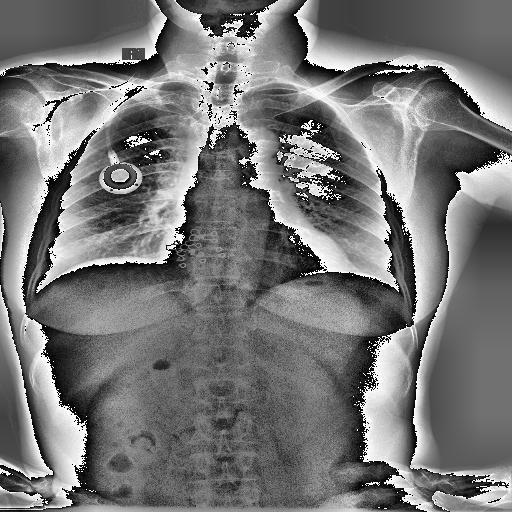0- Aortic enlargement: (233, 127, 279, 177)
3- Cardiomegaly: (155, 236, 356, 293), (156, 240, 354, 270)
